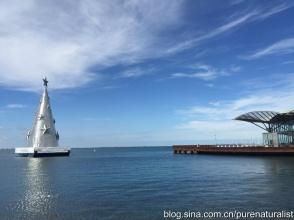fanchuan: (11, 71, 86, 158)
